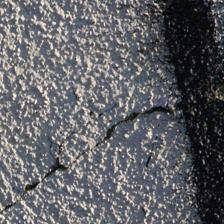Crack: (2, 51, 179, 161)
